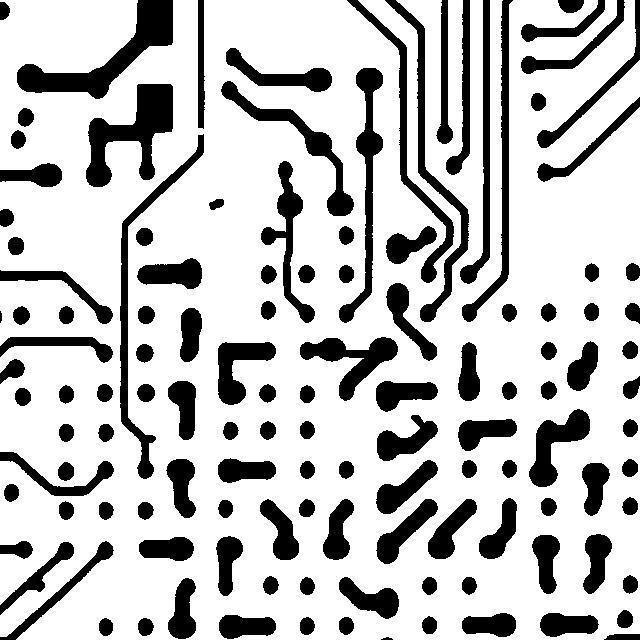copper: (199, 189, 233, 219)
open: (184, 118, 213, 144)
short: (328, 340, 382, 367), (261, 221, 297, 247)
spur: (12, 565, 54, 601), (401, 405, 435, 438), (131, 425, 165, 452)
